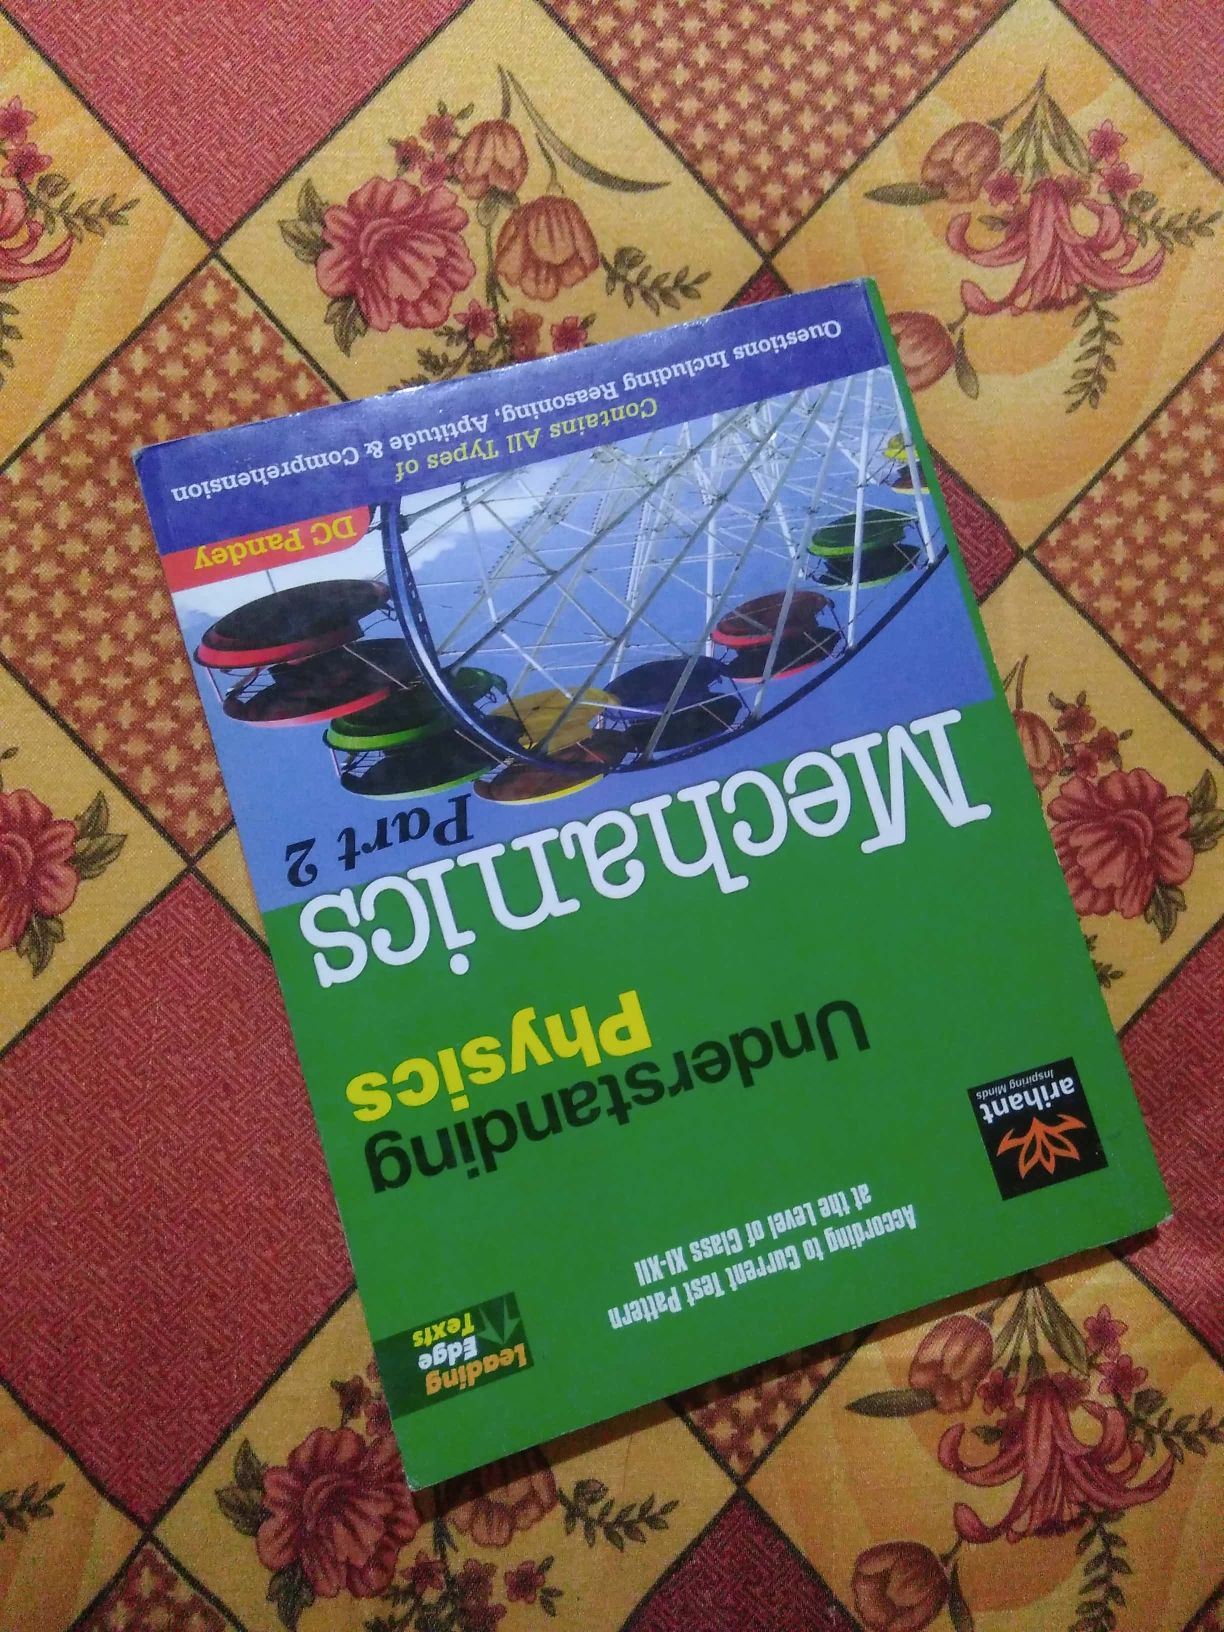mechanics: (96, 344, 1167, 1459)
